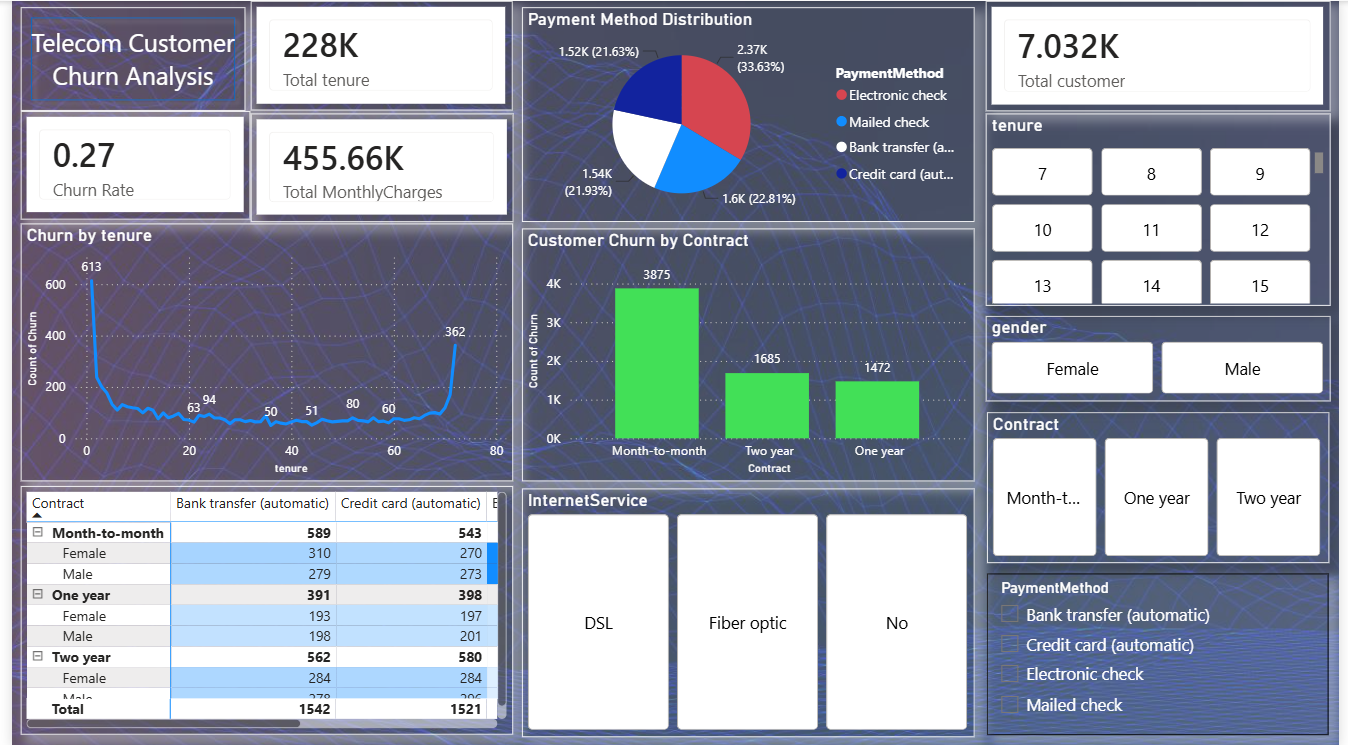

The page's visual inventory and layout, read from the dashboard file:
{"tool":"powerbi","page":{"name":"Page 1","canvas":[1280,720],"ordinal":0},"visuals":[{"type":"cardVisual","fields":{"Data":["Sum(CustomerChurnAnalysisCleaned.MonthlyCharges)"]},"box":[230.4,108.6,253.4,105],"z":0},{"type":"cardVisual","fields":{"Data":["Sum(CustomerChurnAnalysisCleaned.tenure)"]},"box":[230.5,0,252.8,105.6],"z":1000},{"type":"cardVisual","fields":{"Data":["Count(CustomerChurnAnalysisCleaned.customerID)"]},"box":[939.8,0,333,106.2],"z":2000},{"type":"shape","box":[8.4,6,217.2,100.1],"z":3000},{"type":"lineChart","title":"Churn by tenure","fields":{"Category":["CustomerChurnAnalysisCleaned.tenure"],"Y":["CountNonNull(CustomerChurnAnalysisCleaned.Churn)"]},"box":[8.4,214.7,475.3,248.5],"z":4000},{"type":"columnChart","title":"Customer Churn by Contract","fields":{"Category":["CustomerChurnAnalysisCleaned.Contract"],"Y":["CountNonNull(CustomerChurnAnalysisCleaned.Churn)"]},"box":[492.2,219.6,436.7,243.7],"z":5000},{"type":"pieChart","title":"Payment Method Distribution","fields":{"Category":["CustomerChurnAnalysisCleaned.PaymentMethod"],"Y":["CountNonNull(CustomerChurnAnalysisCleaned.PaymentMethod)"]},"box":[492.2,6,436.7,207.5],"z":6000},{"type":"pivotTable","fields":{"Values":["CountNonNull(CustomerChurnAnalysisCleaned.Churn)"],"Rows":["CustomerChurnAnalysisCleaned.Contract","CustomerChurnAnalysisCleaned.gender"],"Columns":["CustomerChurnAnalysisCleaned.PaymentMethod"]},"box":[8.4,468.1,475.3,240.1],"z":7000},{"type":"advancedSlicerVisual","fields":{"Values":["CustomerChurnAnalysisCleaned.Contract"]},"box":[941,396.9,330.6,146],"z":8000},{"type":"advancedSlicerVisual","fields":{"Values":["CustomerChurnAnalysisCleaned.gender"]},"box":[939.8,304,333,82],"z":9000},{"type":"slicer","fields":{"Values":["CustomerChurnAnalysisCleaned.PaymentMethod"]},"box":[941,552.5,329.4,155.6],"z":10000},{"type":"advancedSlicerVisual","fields":{"Values":["CustomerChurnAnalysisCleaned.InternetService"]},"box":[492.2,470.5,436.7,240.1],"z":11000},{"type":"advancedSlicerVisual","fields":{"Values":["CustomerChurnAnalysisCleaned.tenure"]},"box":[939.8,108.6,333,185.8],"z":12000},{"type":"cardVisual","fields":{"Data":["CustomerChurnAnalysisCleaned.Churn Rate"]},"box":[8.4,106.2,222,105],"z":13000}]}

Visuals, with their boxes in screenshot pixels (x1, y1, x2, y2), scaled from the page's 1280x720 canvas onto the 1348x745 screenshot:
cardVisual - Sum(CustomerChurnAnalysisCleaned.MonthlyCharges): [243,112,510,221]
cardVisual - Sum(CustomerChurnAnalysisCleaned.tenure): [243,0,509,109]
cardVisual - Count(CustomerChurnAnalysisCleaned.customerID): [990,0,1340,110]
shape: [9,6,238,110]
"Churn by tenure" lineChart: [9,222,509,479]
"Customer Churn by Contract" columnChart: [518,227,978,479]
"Payment Method Distribution" pieChart: [518,6,978,221]
pivotTable - CountNonNull(CustomerChurnAnalysisCleaned.Churn) x CustomerChurnAnalysisCleaned.Contract: [9,484,509,733]
advancedSlicerVisual - CustomerChurnAnalysisCleaned.Contract: [991,411,1339,562]
advancedSlicerVisual - CustomerChurnAnalysisCleaned.gender: [990,315,1340,399]
slicer - CustomerChurnAnalysisCleaned.PaymentMethod: [991,572,1338,733]
advancedSlicerVisual - CustomerChurnAnalysisCleaned.InternetService: [518,487,978,735]
advancedSlicerVisual - CustomerChurnAnalysisCleaned.tenure: [990,112,1340,305]
cardVisual - CustomerChurnAnalysisCleaned.Churn Rate: [9,110,243,219]
